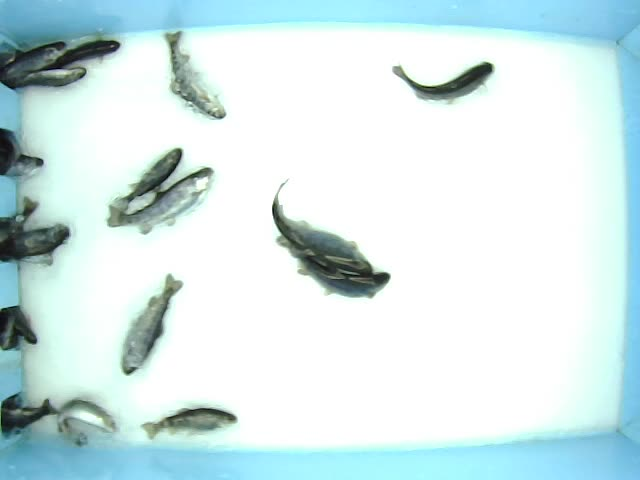fish: (271, 178, 375, 276), (275, 233, 392, 299), (106, 166, 215, 235), (121, 272, 185, 377), (161, 30, 228, 122), (390, 60, 496, 105), (112, 146, 184, 212), (139, 406, 239, 442), (56, 396, 118, 450), (3, 67, 91, 89)
